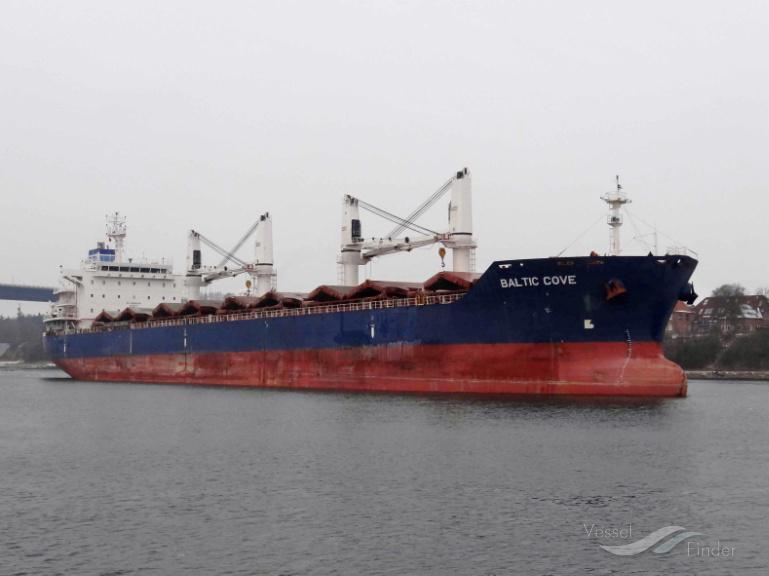OCR: (496, 268, 584, 296)
